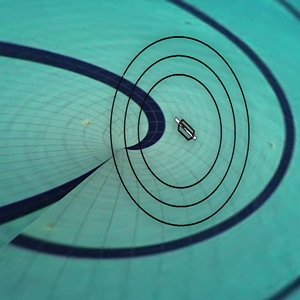circle: (99, 31, 261, 230)
submarine: (171, 106, 198, 150)
